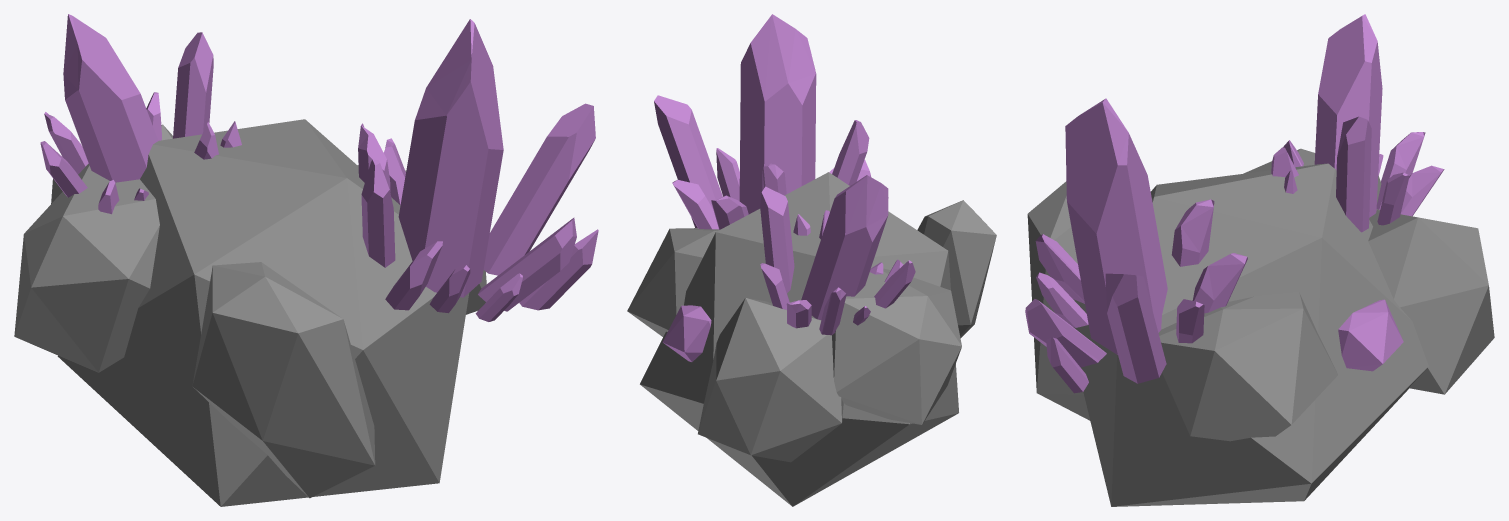
Rendered from CrystalRocks5.fbx.
3 views of the same model, side by side, from view 1: azimuth 30°, elevation 25°; view 2: azimuth 150°, elevation 25°; view 3: azimuth 270°, elevation 25° (orthographic). The views are drawn at different scales.
Visible parts, largest first — view 1: Icosphere.030; view 2: Icosphere.030; view 3: Icosphere.030.
Boxes of the visible parts, left/top/right/bottom form: Icosphere.030: left=14, top=14, right=598, bottom=506; Icosphere.030: left=627, top=14, right=996, bottom=506; Icosphere.030: left=1025, top=14, right=1494, bottom=506.
Size of the model in its own units: 251 by 257 by 236.
